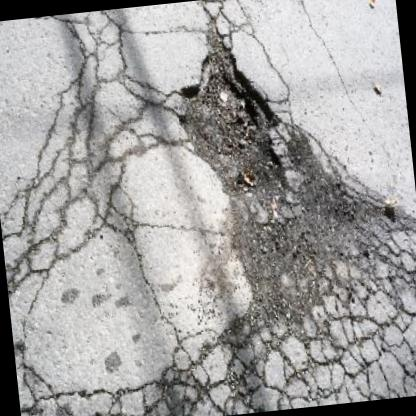pothole: (166, 10, 292, 205)
